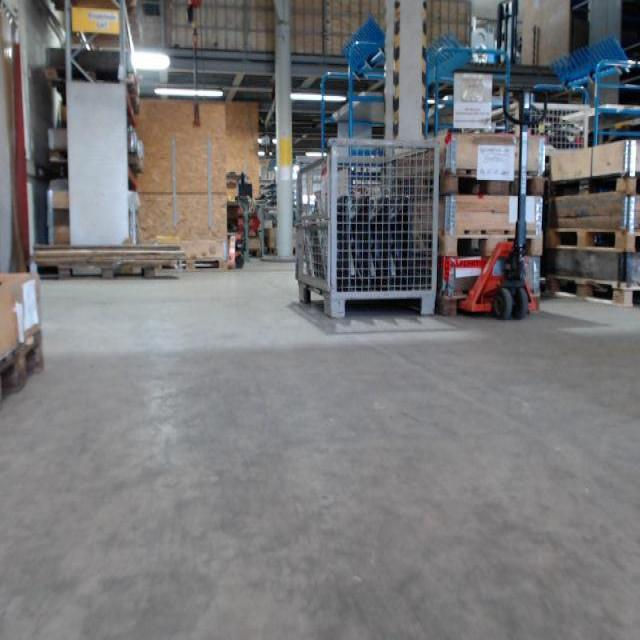pallet: (442, 162, 548, 200), (440, 227, 548, 260), (547, 273, 640, 311), (0, 328, 43, 408), (442, 287, 543, 317), (546, 171, 640, 202), (548, 225, 640, 254), (58, 262, 156, 279), (157, 258, 228, 271)
pallet_truck: (457, 81, 552, 320), (224, 167, 254, 271)
stillage: (293, 135, 443, 319)
